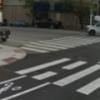cars: (8, 19, 30, 27)
